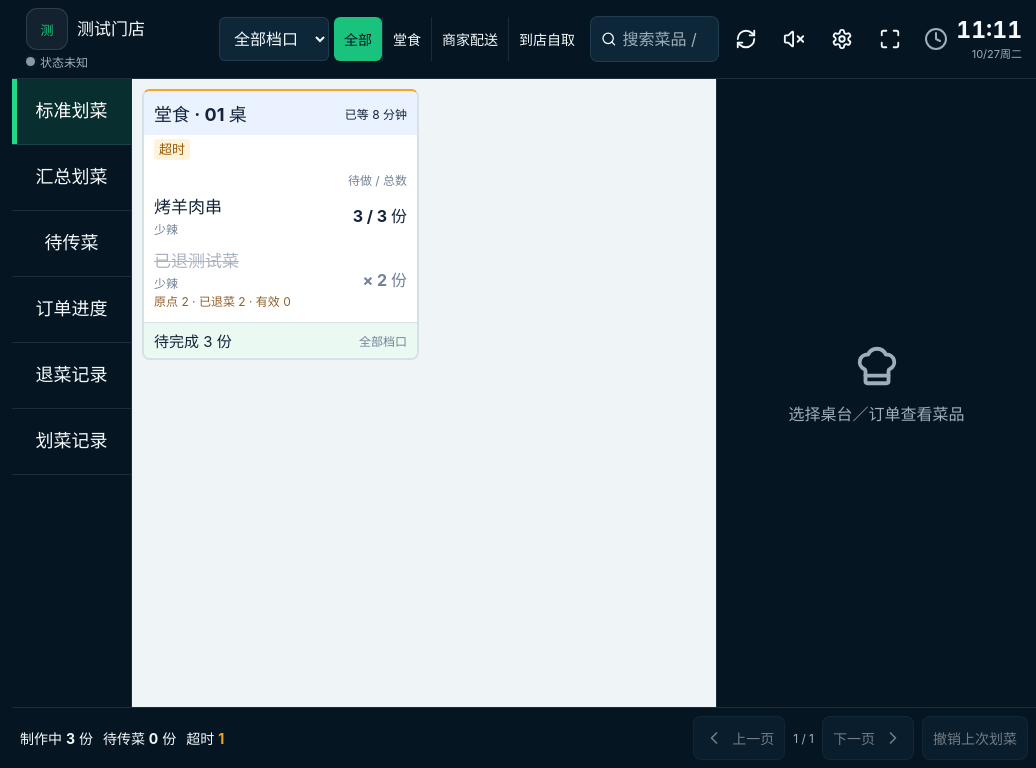
Test case: KDS operational controls › keeps fully returned dishes visible and struck through, with no make controls in standard and progress views
Click the button with class "kds-order-card" at (280, 113), box [142, 89, 419, 360]
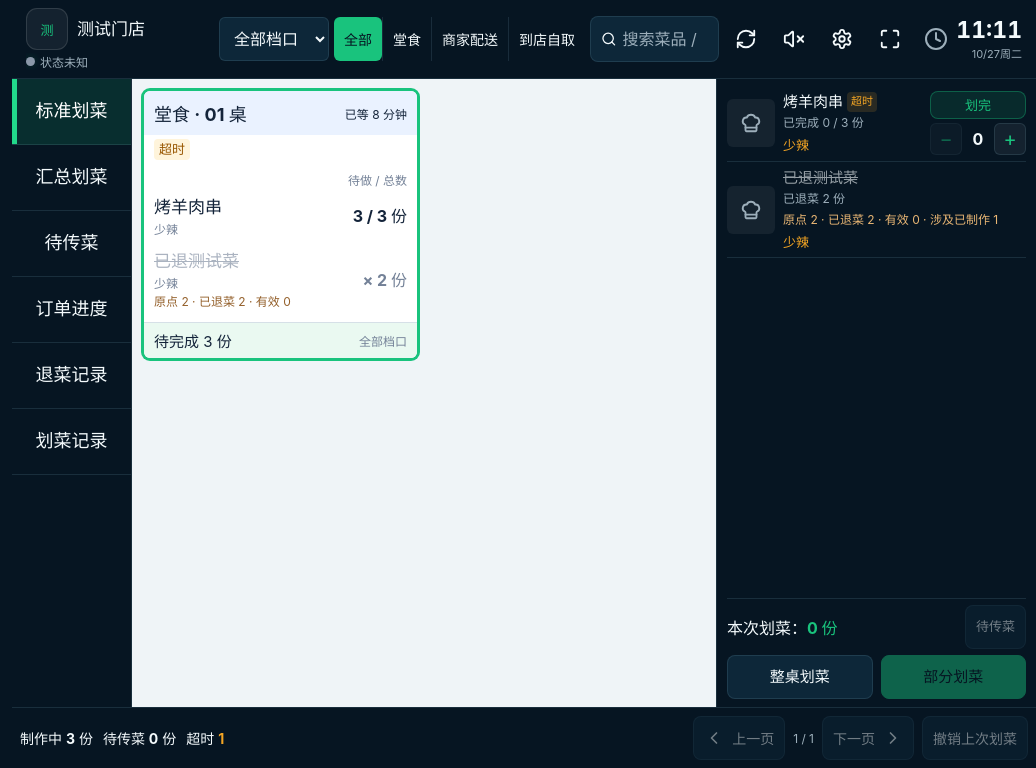
expect the element with class "kds-dish-returned" shows "已退测试菜": met, box [154, 251, 239, 271]
expect the element with class "kds-detail-card--returned" shows "原点 2 · 已退菜 2 · 有效 0": met, box [783, 212, 998, 227]
expect the element with class "kds-detail-card--returned" shows "涉及已制作 1": met, box [783, 212, 998, 227]
Click the button "订单进度" at (72, 310), box [12, 277, 131, 343]
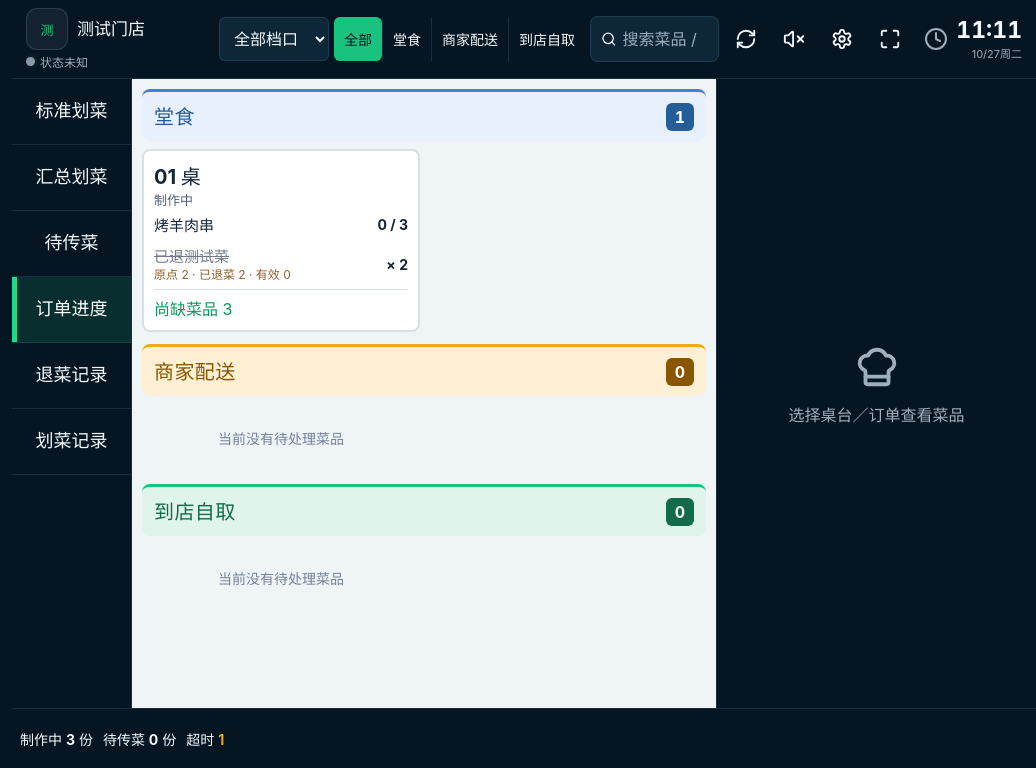
Click the button with class "kds-order-card" at (177, 177), box [142, 149, 420, 332]
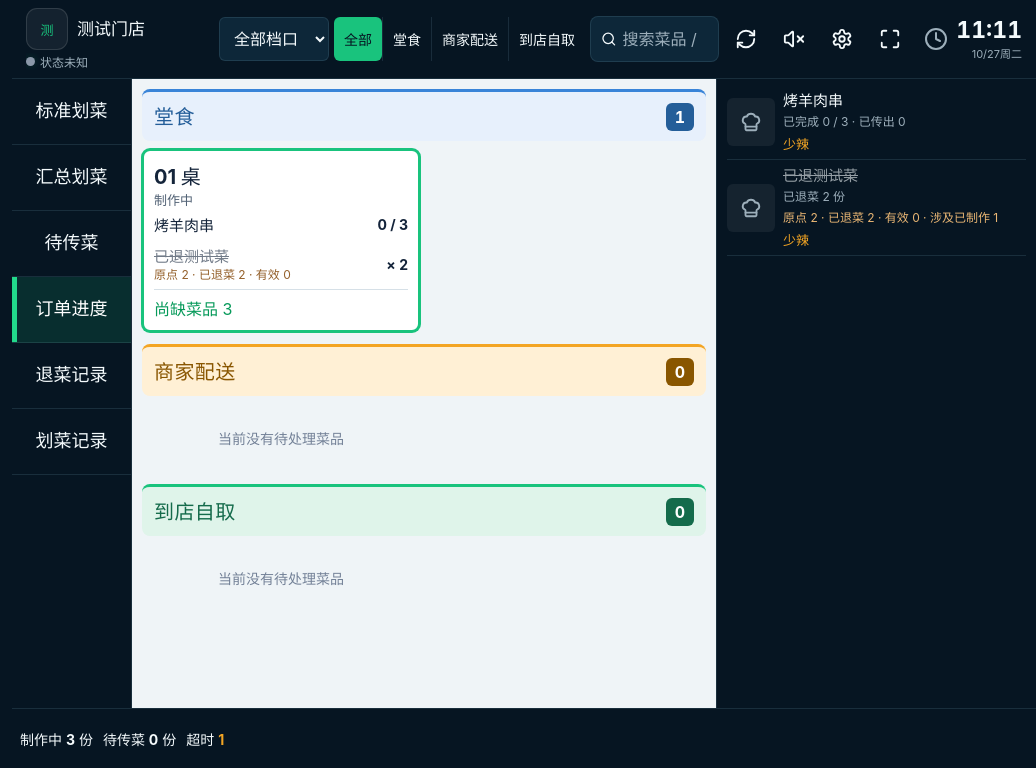
expect the element with class "kds-detail-card--returned" shows "已退测试菜": met, box [783, 166, 858, 185]
